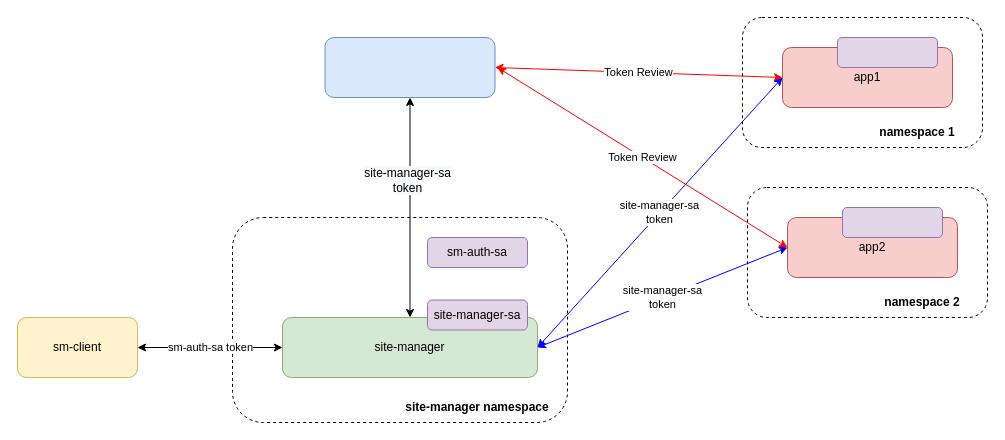
The diagram is 1005 pixels wide and 440 high, and some of its shapes have lost their labels. The centre of each missing label's shape, as x and y in pixels:
"kube-api" goes at (x=409, y=67).
"service-account 1" goes at (x=887, y=52).
"service-account 2" goes at (x=892, y=222).
